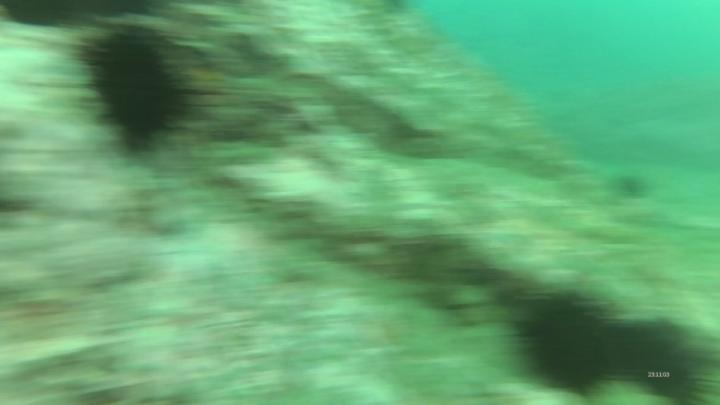echinus: (78, 27, 193, 159), (522, 287, 620, 394)
